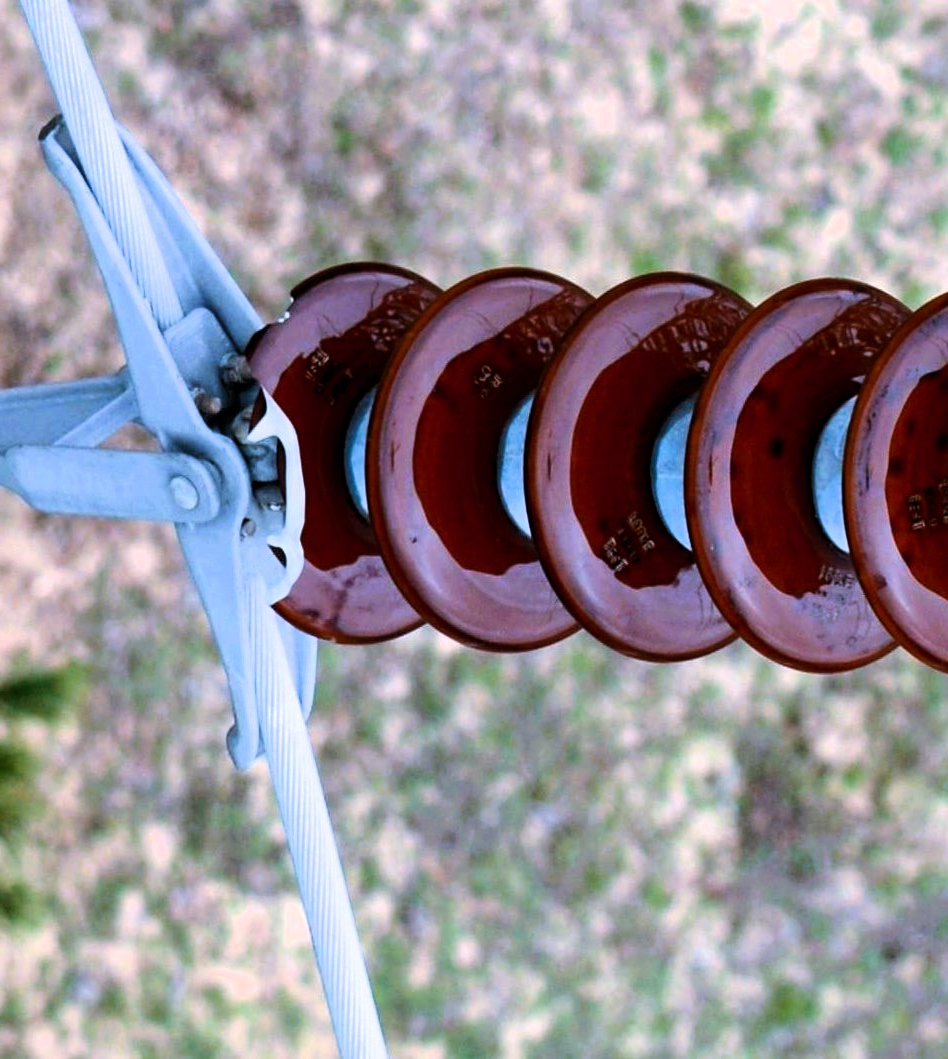insulator breakage: (219, 260, 444, 647)
